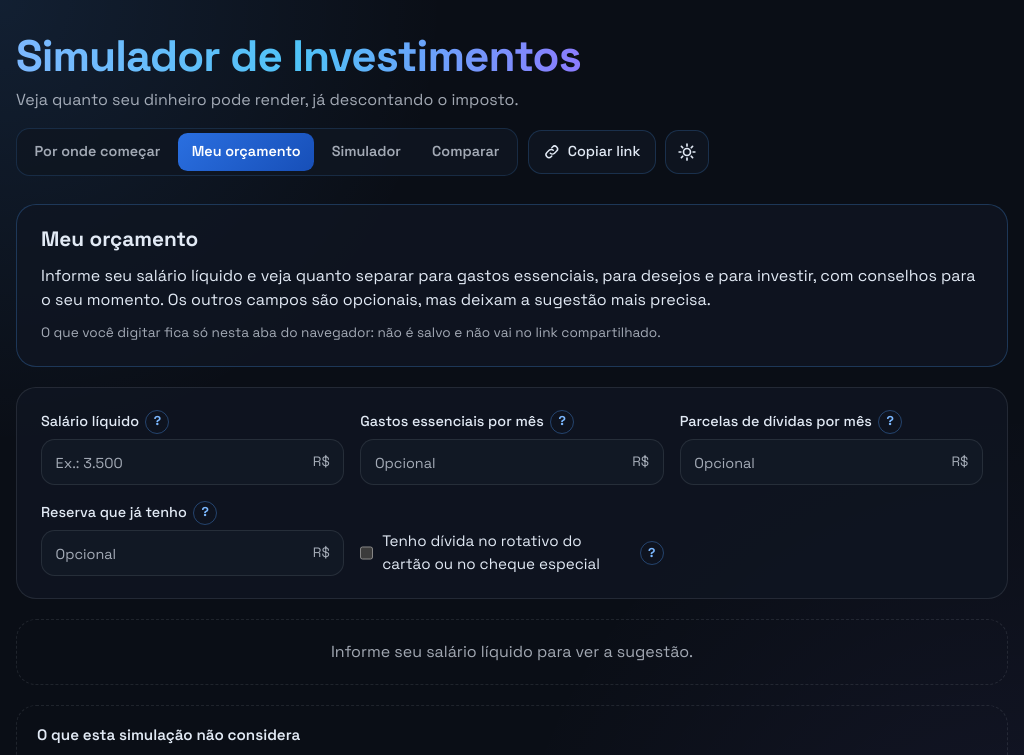
Scenario: com o salário, mostra a divisão, a reserva e os conselhos
Type "5.000" into the field labelled "Salário líquido" at {"x": 177, "y": 462}, box [42,440,313,484]
(page scrolled)
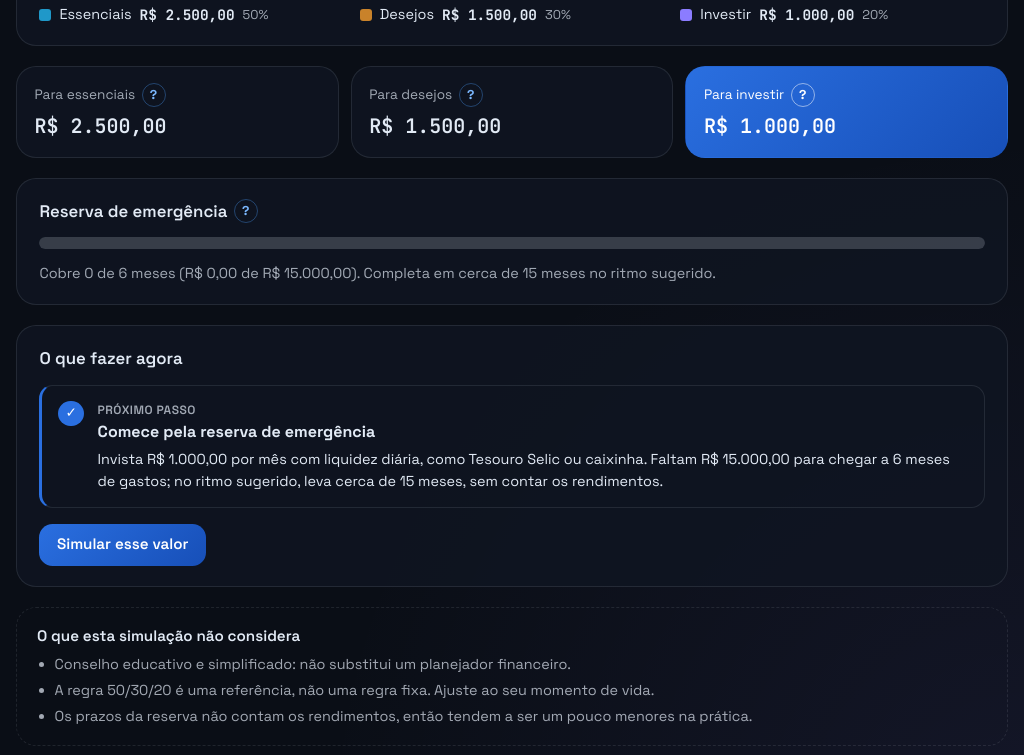
expect the progress indicator named "Reserva de emergência" is shown: met, box [39,237,985,249]
expect the heading "Comece pela reserva de emergência" is shown: met, box [98,421,375,442]
